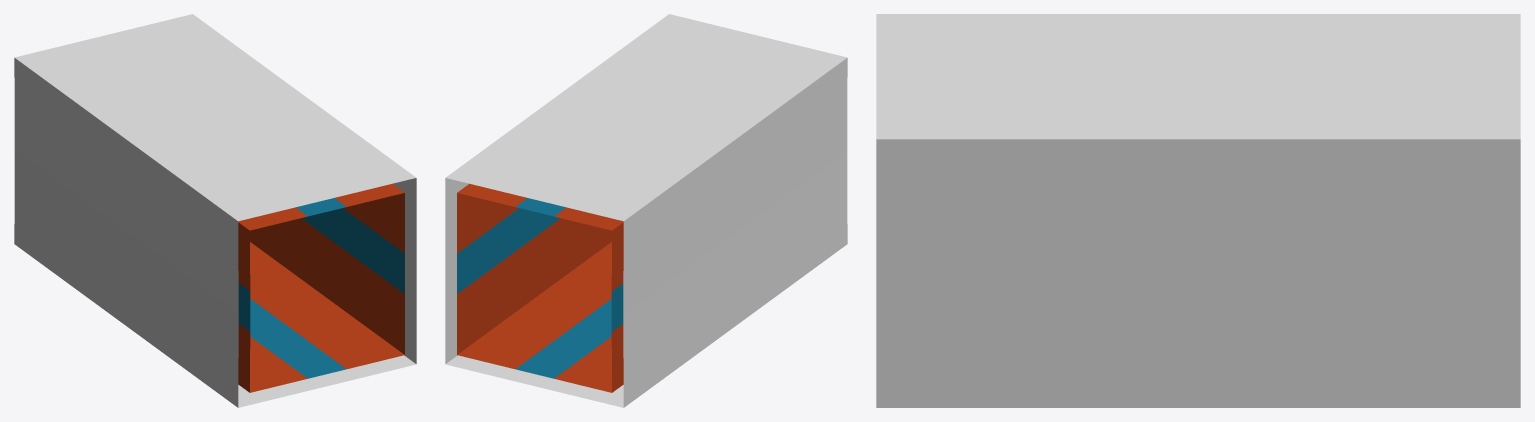
File: Cable_0.fbx
3 renders of one model, left to right at view 1: azimuth 30°, elevation 25°; view 2: azimuth 150°, elevation 25°; view 3: azimuth 270°, elevation 25°, orthographic. The views are drawn at different scales.
Parts seen in each view (by area): view 1: Cable_0; view 2: Cable_0; view 3: Cable_0.
Boxes of the visible parts, box(x1,y1,x2,y2) form: Cable_0: box(14, 14, 416, 407); Cable_0: box(445, 14, 847, 407); Cable_0: box(876, 14, 1520, 407).
Size of the model in its own units: 0.4602 by 1 by 0.46.
